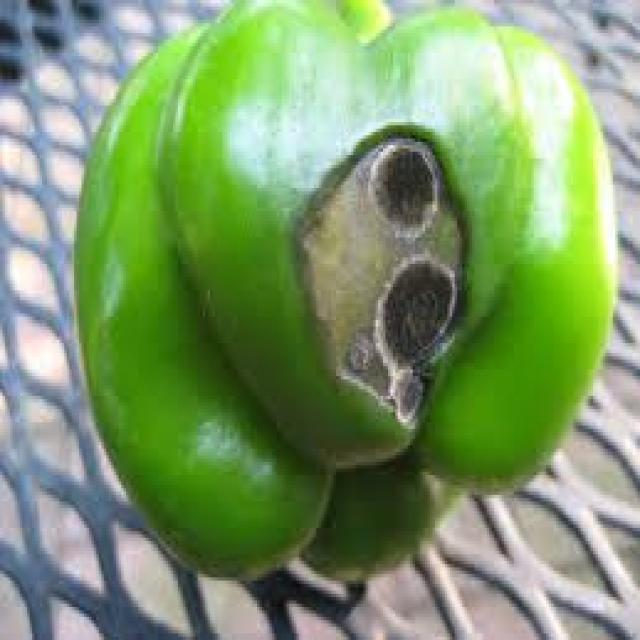Wet Waste: (49, 3, 622, 590)
